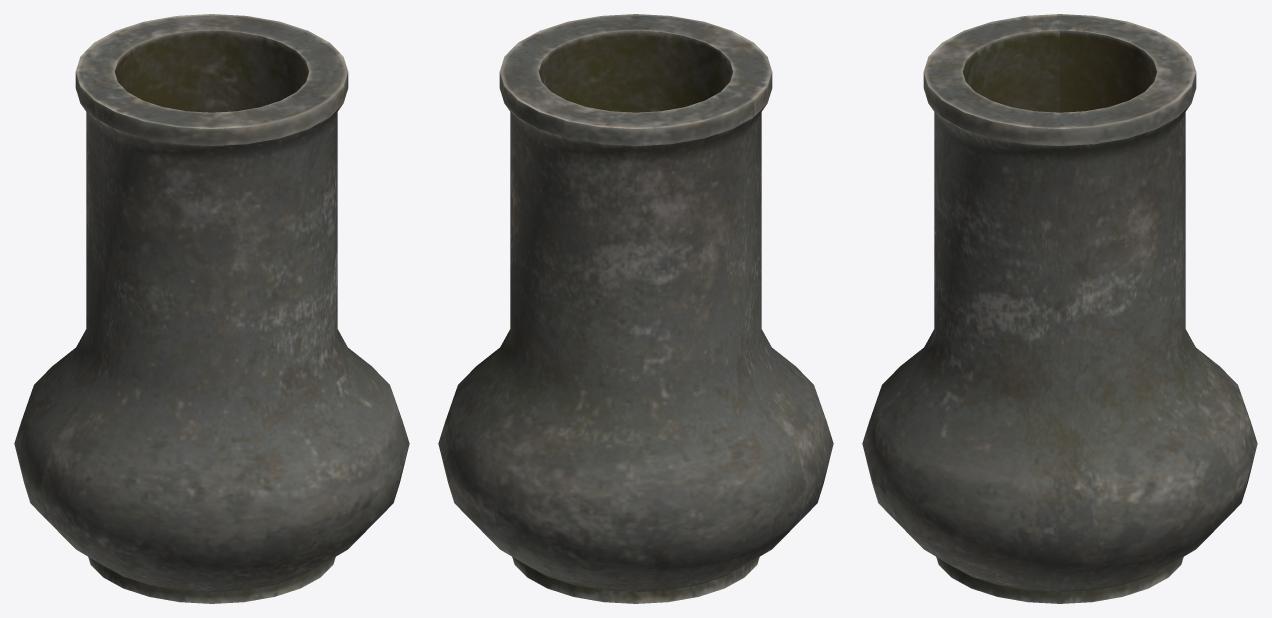
Rendered from JT_Gy_Prp_FlowerStand_03.fbx.
3 renders of one model, left to right at view 1: azimuth 30°, elevation 25°; view 2: azimuth 150°, elevation 25°; view 3: azimuth 270°, elevation 25°, orthographic.
Visible parts, largest first — view 1: JT_Gy_Prp_FlowerStand_03, JT_Gy_Prp_FlowerStand_03_LOD0; view 2: JT_Gy_Prp_FlowerStand_03_LOD0, JT_Gy_Prp_FlowerStand_03; view 3: JT_Gy_Prp_FlowerStand_03, JT_Gy_Prp_FlowerStand_03_LOD0.
Part boxes in pixels (x1=…): JT_Gy_Prp_FlowerStand_03: x1=21, y1=14, x2=409, y2=590; JT_Gy_Prp_FlowerStand_03_LOD0: x1=14, y1=14, x2=394, y2=603; JT_Gy_Prp_FlowerStand_03_LOD0: x1=438, y1=14, x2=833, y2=585; JT_Gy_Prp_FlowerStand_03: x1=440, y1=14, x2=832, y2=603; JT_Gy_Prp_FlowerStand_03: x1=862, y1=14, x2=1245, y2=603; JT_Gy_Prp_FlowerStand_03_LOD0: x1=875, y1=14, x2=1257, y2=603.
Size of what is drawn, in the model's own units: 0.5645 by 0.7552 by 0.5645.
